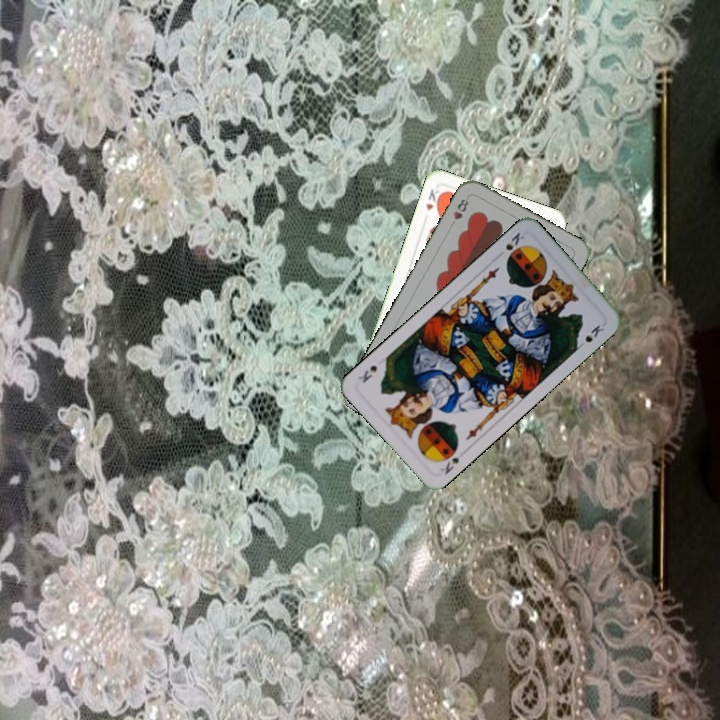H8: (446, 195, 471, 229)
HK: (422, 185, 445, 213)
SK: (436, 446, 469, 477), (501, 228, 527, 253)
